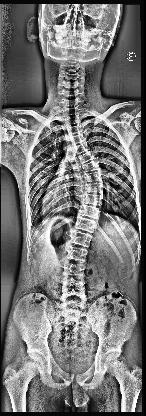Vertebrae: (70, 230, 92, 248), (64, 262, 86, 280), (62, 280, 86, 296), (74, 216, 96, 233), (66, 246, 88, 262), (80, 204, 100, 220), (78, 150, 97, 164), (72, 141, 90, 155), (60, 106, 84, 116), (84, 182, 104, 194), (83, 194, 103, 206), (82, 161, 100, 173), (64, 113, 82, 124), (66, 125, 85, 135), (69, 134, 87, 144), (84, 172, 102, 182)
